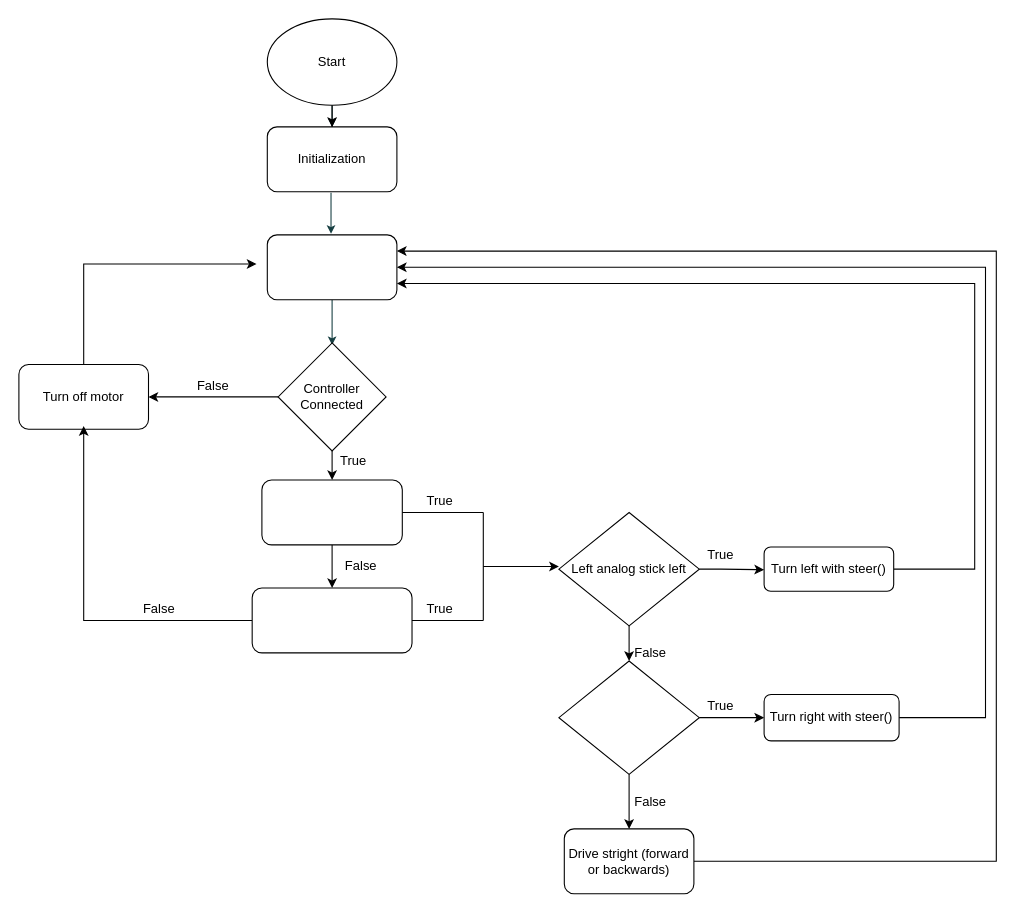
Image size: 1024x913. Some labels were removed from this diagram. The shapes that lost their labels are listed below. From the top down, each one's centre as x and y in pixels, then its label:
At [331,267]: "Void loop()".
At [331,512]: "R2 pressed (Forward)".
At [331,620]: "L2 pressed (Backwards)".
At [628,717]: "Left analog stick right".
